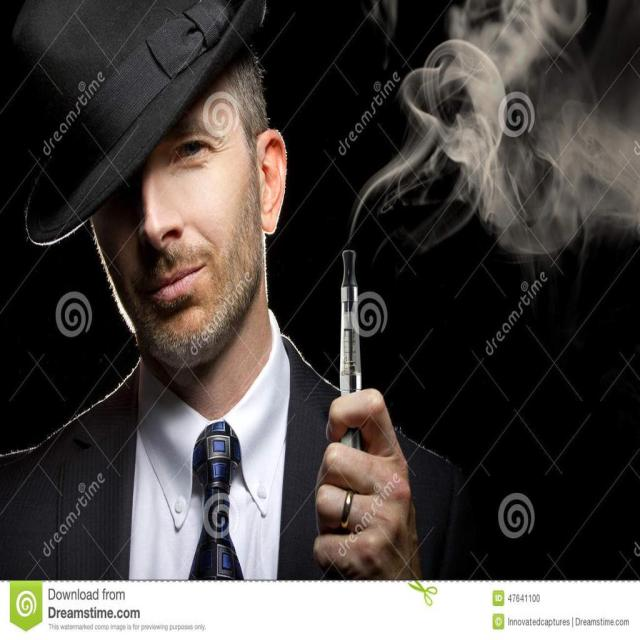smoking: (56, 20, 466, 583)
